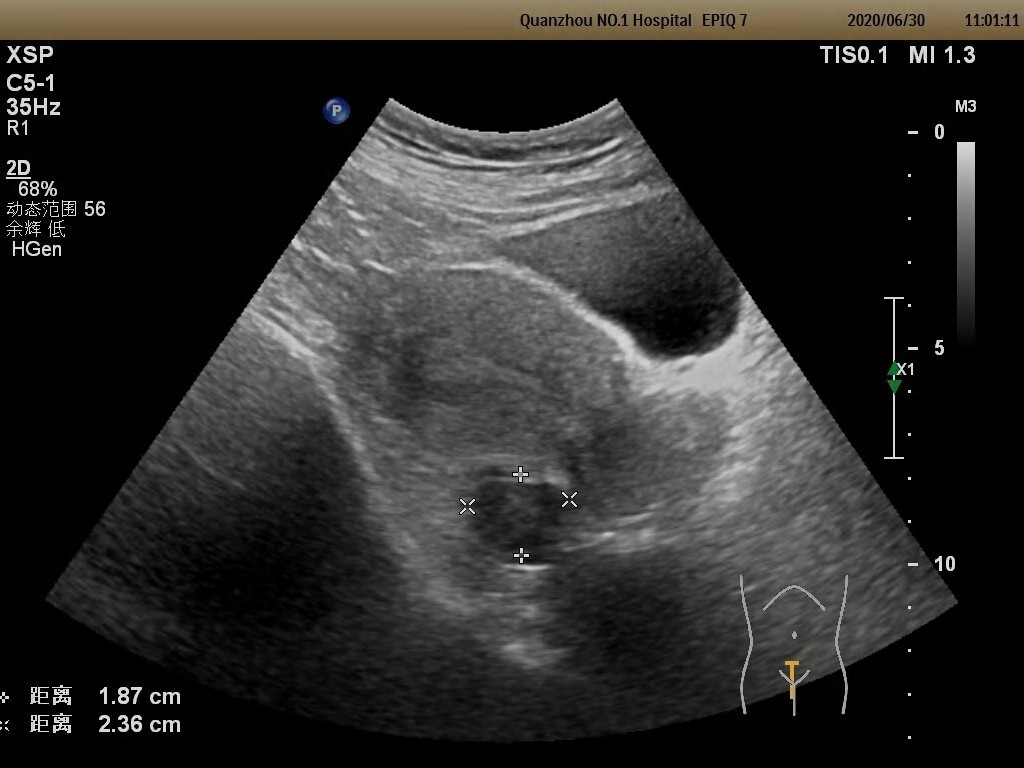肌瘤: (468, 474, 573, 555)
